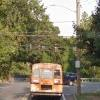buses: (28, 62, 65, 97)
